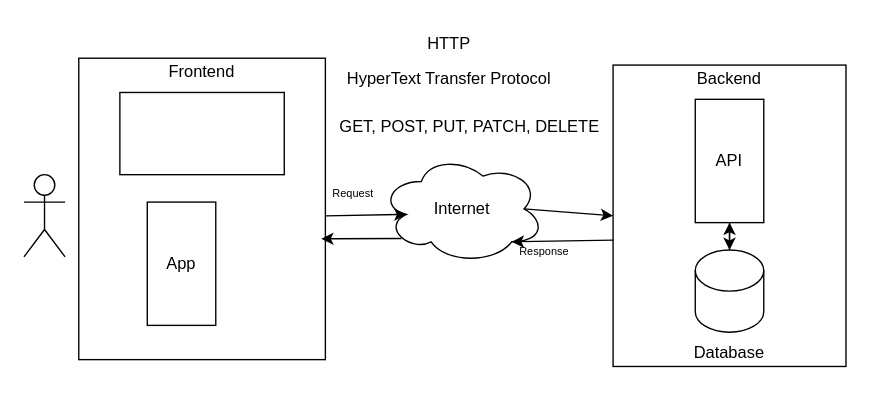
Image size: 870x396. Some labels were removed from this diagram. Here are the shapes that lost their labels. From the top down, the centre of each, then its label:
[201,133]: Navegador
[44,215]: User
